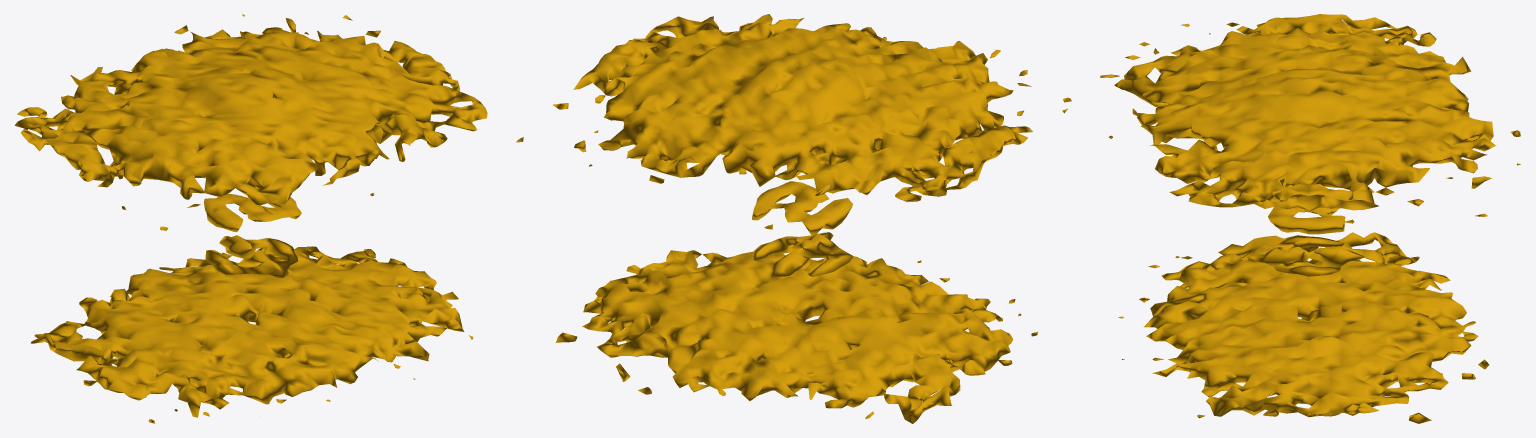
The model's file is pilusmap.gltf.
The picture shows the model from 3 angles, left to right: view 1: azimuth 30°, elevation 25°; view 2: azimuth 150°, elevation 25°; view 3: azimuth 270°, elevation 25°; orthographic projection. The views are drawn at different scales.
Visible parts, largest first — view 1: pilusmap; view 2: pilusmap; view 3: pilusmap.
Boxes of the visible parts, left/top/right/bottom form: pilusmap: left=15, top=14, right=487, bottom=423; pilusmap: left=516, top=14, right=1071, bottom=423; pilusmap: left=1100, top=14, right=1520, bottom=423.
Bounding box in the file's own units: 2.51 × 1.87 × 2.47.
